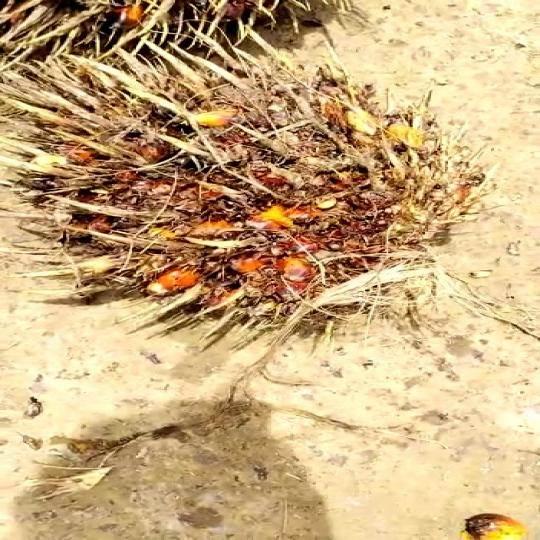terlalu masak: (0, 33, 540, 376)
